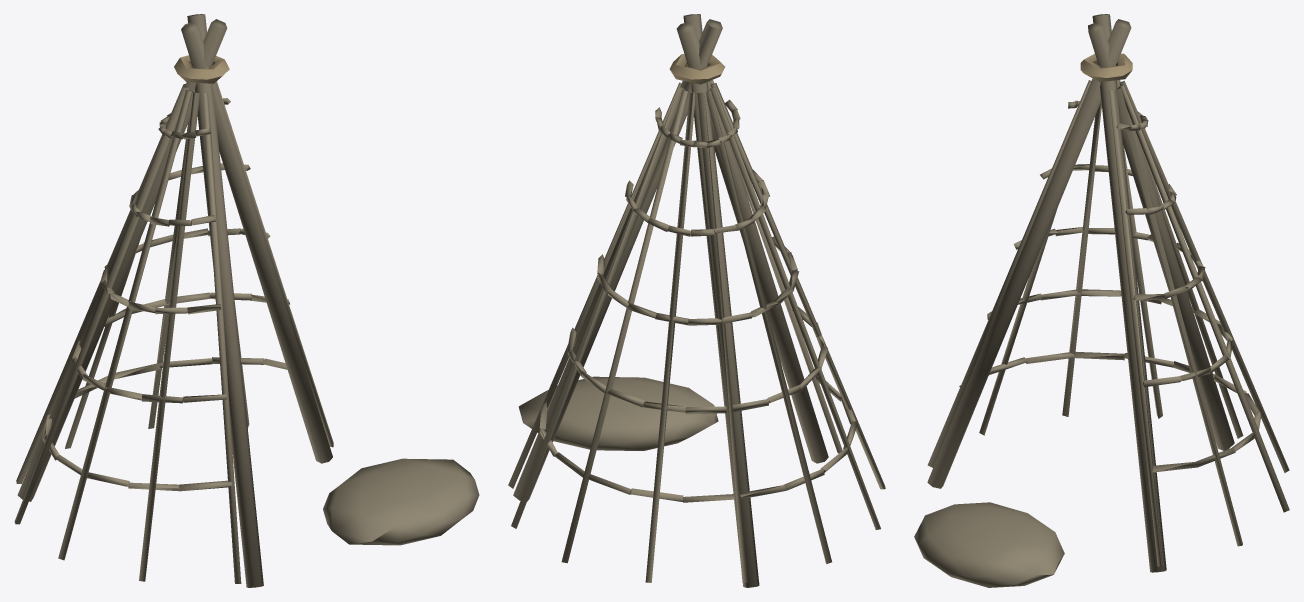
Rendered from drying_tripod_a_lod1.glb.
3 views of the same model, side by side, from view 1: azimuth 30°, elevation 25°; view 2: azimuth 150°, elevation 25°; view 3: azimuth 270°, elevation 25° (orthographic). The views are drawn at different scales.
Parts seen in each view (by area): view 1: Surface.001; view 2: Surface.001; view 3: Surface.001.
Boxes of the visible parts, <box> form: Surface.001: <box>14,14,479,587</box>; Surface.001: <box>508,14,885,587</box>; Surface.001: <box>914,14,1289,587</box>.
Bounding box in the file's own units: 2.21 × 2.73 × 1.92.
